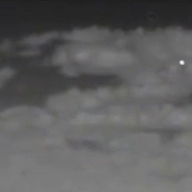Target: (179, 59, 185, 66)
